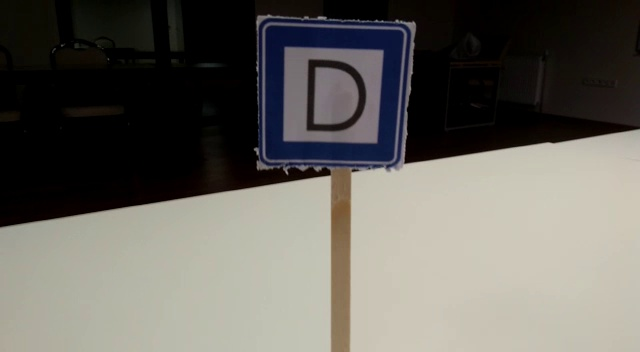durak: (258, 23, 410, 164)
